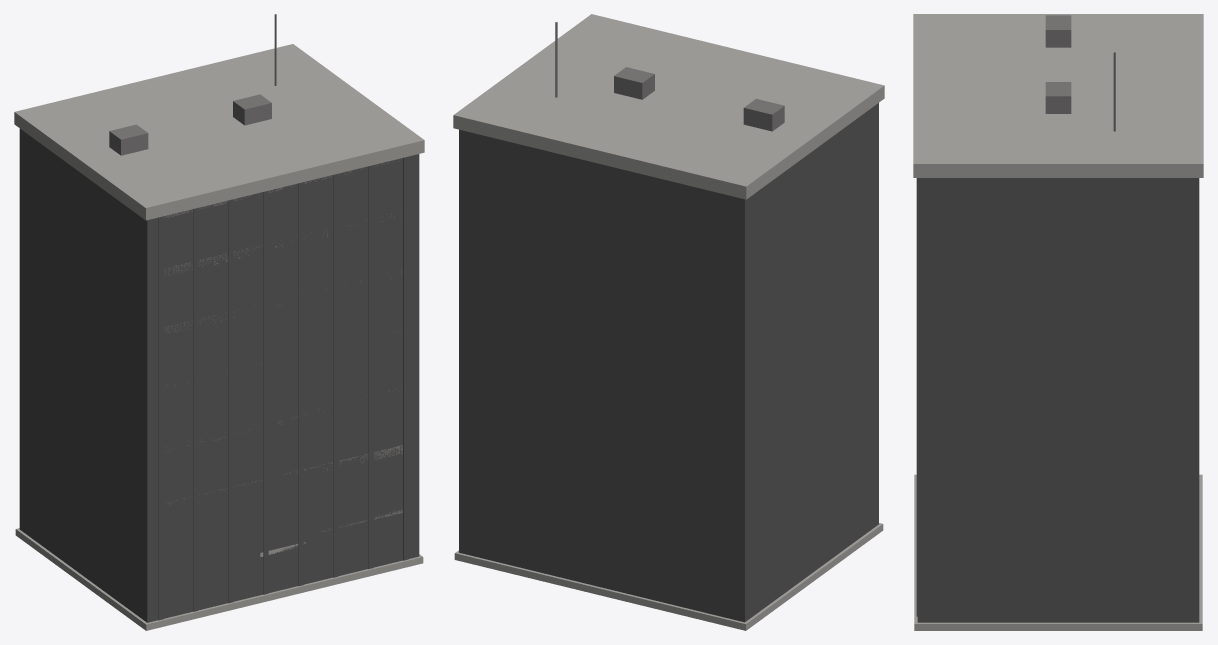
Rendered from b_tower3.glb.
3 views of the same model, side by side, from view 1: azimuth 30°, elevation 25°; view 2: azimuth 150°, elevation 25°; view 3: azimuth 270°, elevation 25° (orthographic). The views are drawn at different scales.
Visible parts, largest first — view 1: Building; view 2: Building; view 3: Building.
Boxes of the visible parts, x1,y1,x2,y2 form: Building: (14, 14, 424, 630); Building: (453, 14, 884, 630); Building: (913, 14, 1203, 630).
Size of the model in its own units: 16.4 by 27.9 by 13.4.
5 materials, 2 textured.
